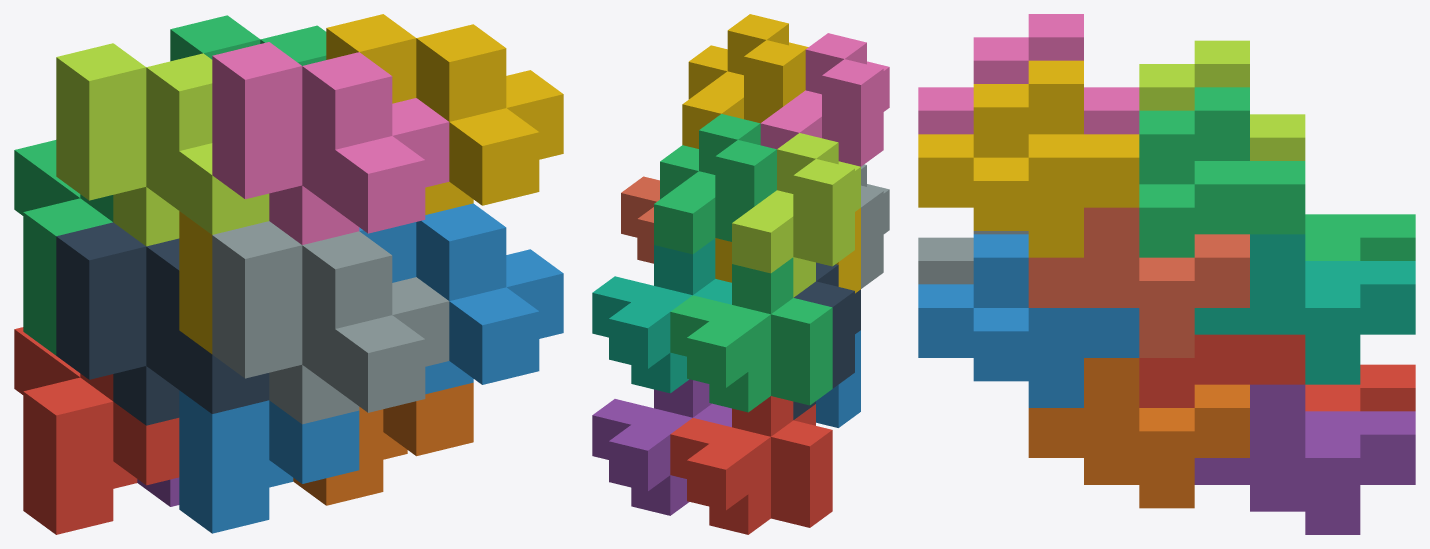
The model's file is tiling.obj.
3 renders of one model, left to right at view 1: azimuth 30°, elevation 25°; view 2: azimuth 150°, elevation 25°; view 3: azimuth 270°, elevation 25°, orthographic. The views are drawn at different scales.
Parts seen in each view (by area): view 1: copy_2_domain_4, copy_2_domain_2, copy_2_domain_3, copy_2_domain_1, copy_2_domain_8, copy_2_domain_6, copy_1_domain_1, copy_1_domain_2, copy_1_domain_3, copy_1_domain_6, copy_2_domain_7, copy_1_domain_4 (+1 smaller); view 2: copy_1_domain_3, copy_1_domain_1, copy_2_domain_3, copy_2_domain_7, copy_1_domain_7, copy_2_domain_4, copy_2_domain_8, copy_1_domain_5, copy_2_domain_1, copy_2_domain_2, copy_1_domain_8, copy_1_domain_2 (+1 smaller); view 3: copy_2_domain_8, copy_2_domain_6, copy_2_domain_7, copy_1_domain_5, copy_1_domain_6, copy_1_domain_8, copy_1_domain_7, copy_2_domain_4, copy_2_domain_5, copy_2_domain_3, copy_1_domain_3, copy_1_domain_1 (+1 smaller).
Boxes of the visible parts, box(x1,y1,x2,y2) form: copy_2_domain_4: box(212, 42, 449, 244); copy_2_domain_2: box(212, 221, 449, 424); copy_2_domain_3: box(56, 43, 269, 246); copy_2_domain_1: box(56, 222, 269, 425); copy_2_domain_8: box(326, 14, 563, 214); copy_2_domain_6: box(359, 203, 563, 394); copy_1_domain_1: box(14, 327, 179, 534); copy_1_domain_2: box(179, 390, 359, 533); copy_1_domain_3: box(14, 140, 113, 355); copy_1_domain_6: box(293, 382, 473, 505); copy_2_domain_7: box(170, 15, 326, 65); copy_1_domain_4: box(179, 211, 212, 353); copy_1_domain_3: box(670, 257, 832, 412); copy_1_domain_1: box(670, 396, 832, 534); copy_2_domain_3: box(732, 133, 860, 297); copy_2_domain_7: box(654, 114, 776, 254); copy_1_domain_7: box(592, 238, 731, 393); copy_2_domain_4: box(760, 33, 889, 166); copy_2_domain_8: box(682, 14, 808, 148); copy_1_domain_5: box(592, 379, 731, 515); copy_2_domain_1: box(793, 262, 860, 419); copy_2_domain_2: box(861, 164, 889, 288); copy_1_domain_8: box(621, 176, 659, 263); copy_1_domain_2: box(816, 330, 860, 427); copy_2_domain_8: box(918, 60, 1139, 257); copy_2_domain_6: box(918, 234, 1139, 407); copy_2_domain_7: box(1139, 87, 1305, 257); copy_1_domain_5: box(1194, 384, 1415, 534); copy_1_domain_6: box(1028, 358, 1249, 508); copy_1_domain_8: box(1028, 207, 1249, 357); copy_1_domain_7: box(1194, 234, 1415, 384); copy_2_domain_4: box(918, 14, 1139, 134); copy_2_domain_5: box(1139, 334, 1305, 407); copy_2_domain_3: box(1139, 40, 1305, 160); copy_1_domain_3: box(1305, 214, 1415, 260); copy_1_domain_1: box(1305, 364, 1415, 411).
Size of the model in its own units: 6 by 9 by 9.
